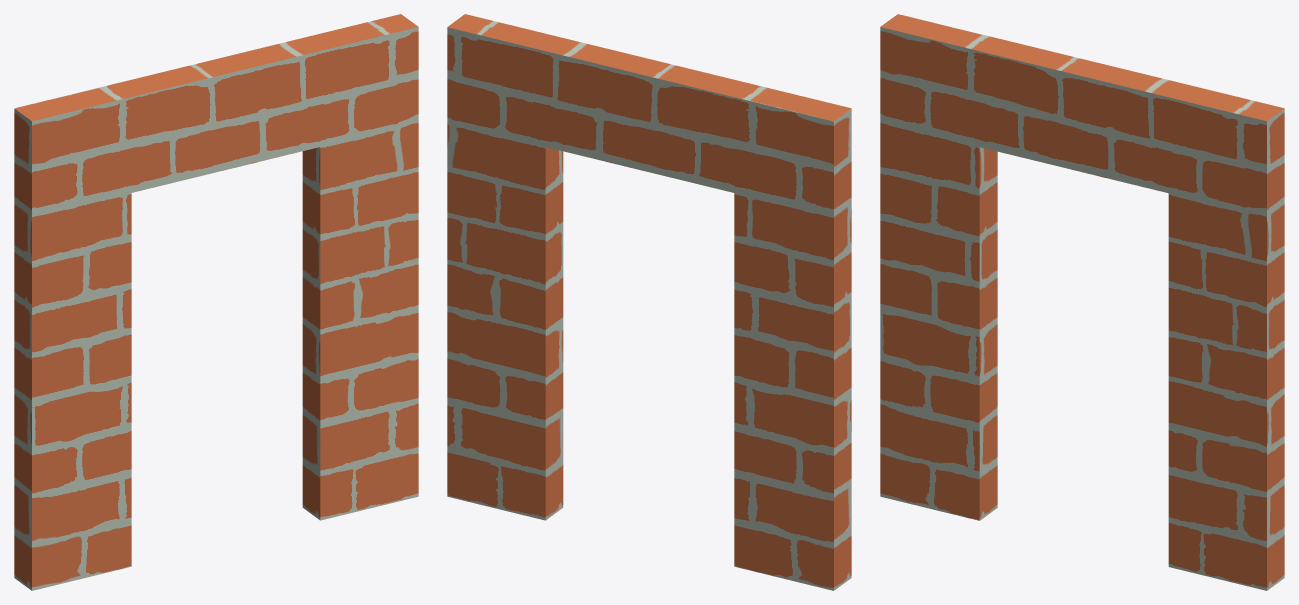
The model's file is Brick_Wall_Doorframe.fbx.
The picture shows the model from 3 angles, left to right: view 1: azimuth 30°, elevation 25°; view 2: azimuth 150°, elevation 25°; view 3: azimuth 330°, elevation 25°; orthographic projection.
Visible parts, largest first — view 1: Brick_Wall_Doorframe; view 2: Brick_Wall_Doorframe; view 3: Brick_Wall_Doorframe.
Part boxes in pixels (x1=…): Brick_Wall_Doorframe: x1=14, y1=14, x2=418, y2=590; Brick_Wall_Doorframe: x1=447, y1=14, x2=851, y2=590; Brick_Wall_Doorframe: x1=880, y1=14, x2=1284, y2=590.
Size of the model in its own units: 250 by 290 by 20.
